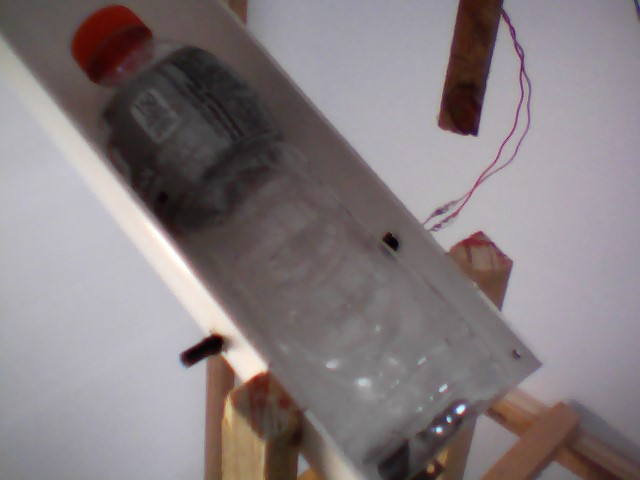plastico: (64, 1, 505, 480)
